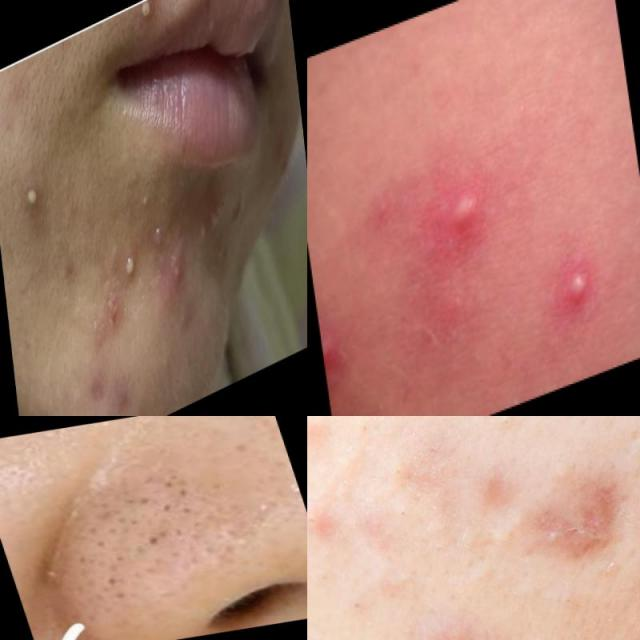7: (225, 491, 285, 529)
9: (544, 233, 612, 344), (441, 172, 488, 250), (118, 241, 141, 306), (24, 558, 66, 592), (16, 174, 40, 222), (166, 250, 184, 301), (136, 0, 154, 34)
blackheads: (538, 470, 632, 588), (192, 183, 233, 263)
dark spot: (138, 474, 204, 524), (88, 500, 148, 542), (84, 568, 133, 610), (133, 524, 191, 555)
